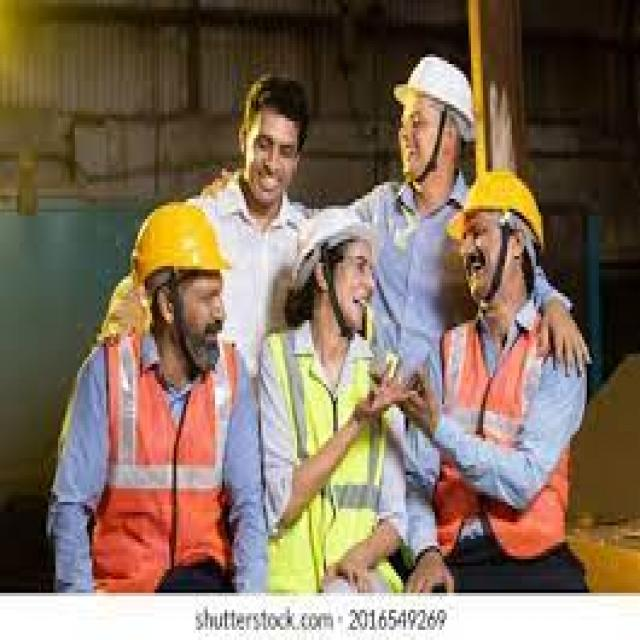Reflective-Jacket: (80, 337, 248, 559), (437, 296, 582, 549), (261, 327, 396, 593)
Safety-Helmet: (292, 199, 398, 302), (123, 195, 234, 290), (449, 165, 553, 249), (394, 47, 481, 125)
